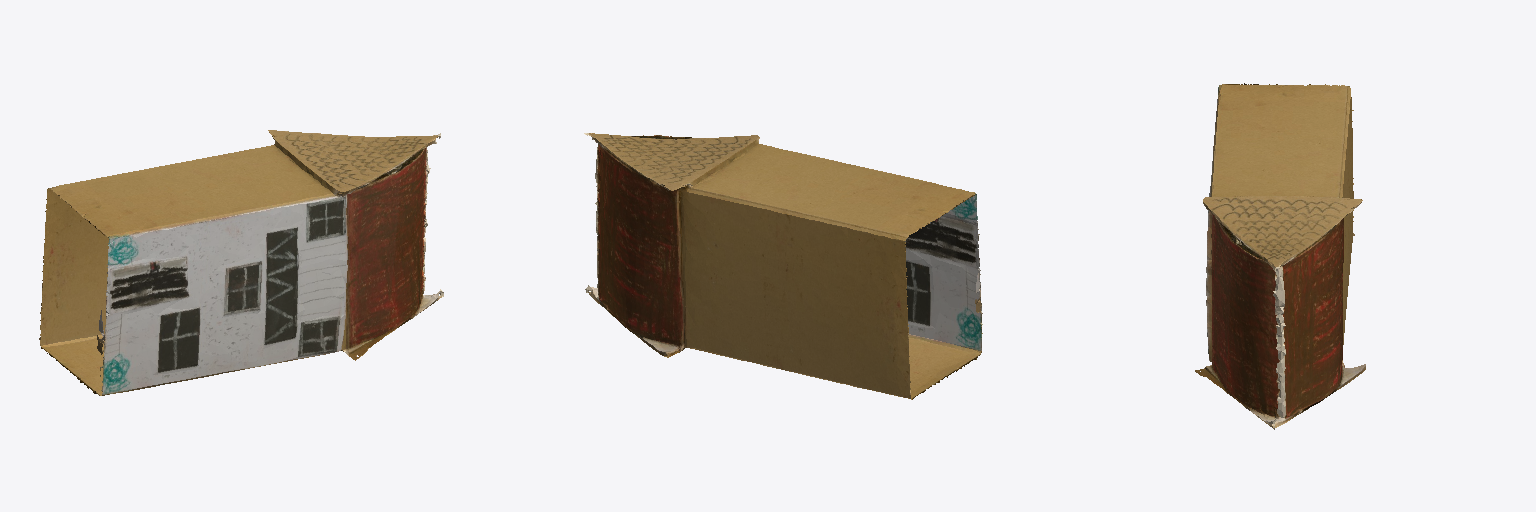
The picture shows the model from 3 angles: view 1: azimuth 30°, elevation 25°; view 2: azimuth 150°, elevation 25°; view 3: azimuth 270°, elevation 25°; orthographic projection.
Size of the model in its own units: 20.23 by 9.09 by 8.14.
1 materials, 1 textured.